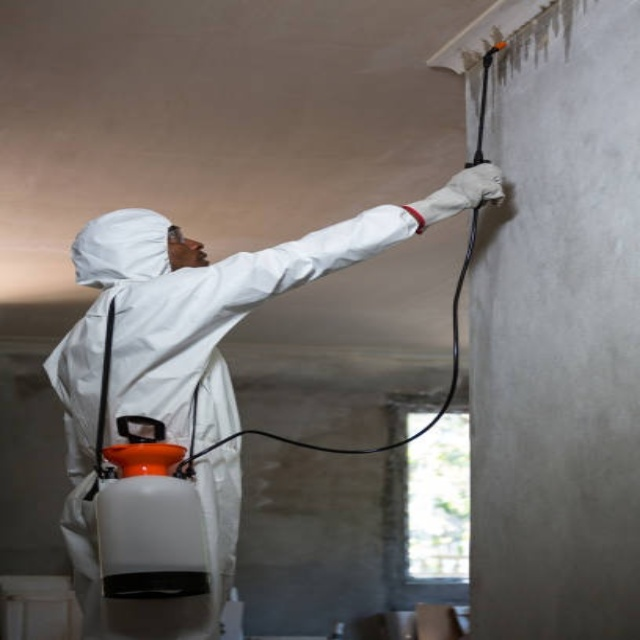Gafas: (168, 225, 185, 245)
Guantes: (409, 164, 505, 228)
Sin_mascara: (187, 244, 213, 266)
